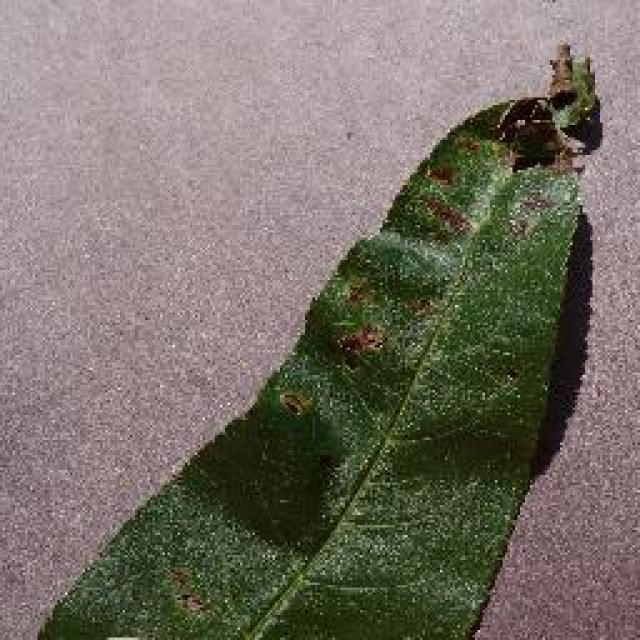Pea_Bacterial_spot: (478, 40, 618, 189), (412, 154, 564, 258), (328, 260, 448, 364)
